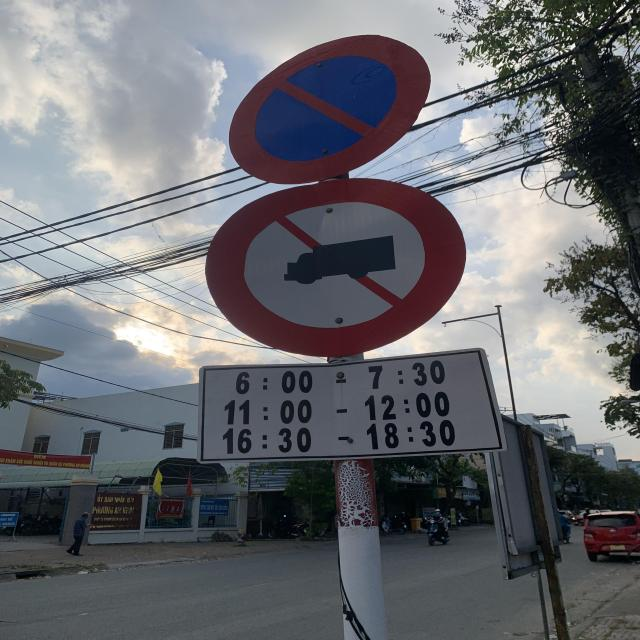Cam_Dau_Xe: (228, 34, 428, 182)
Cam_Xe_Tai: (202, 180, 470, 354)
